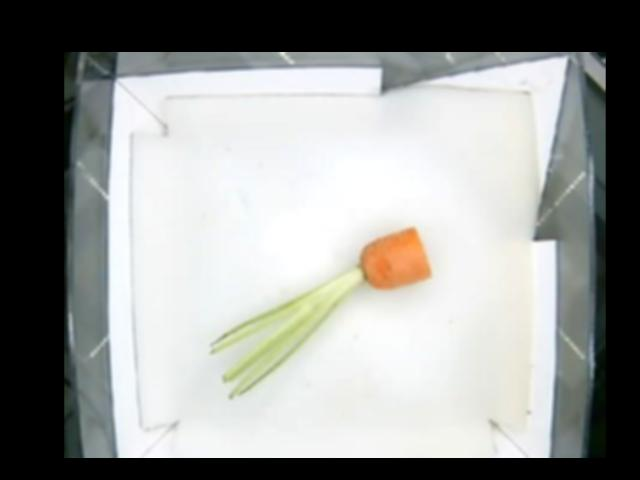Carrot: (316, 227, 429, 314)
